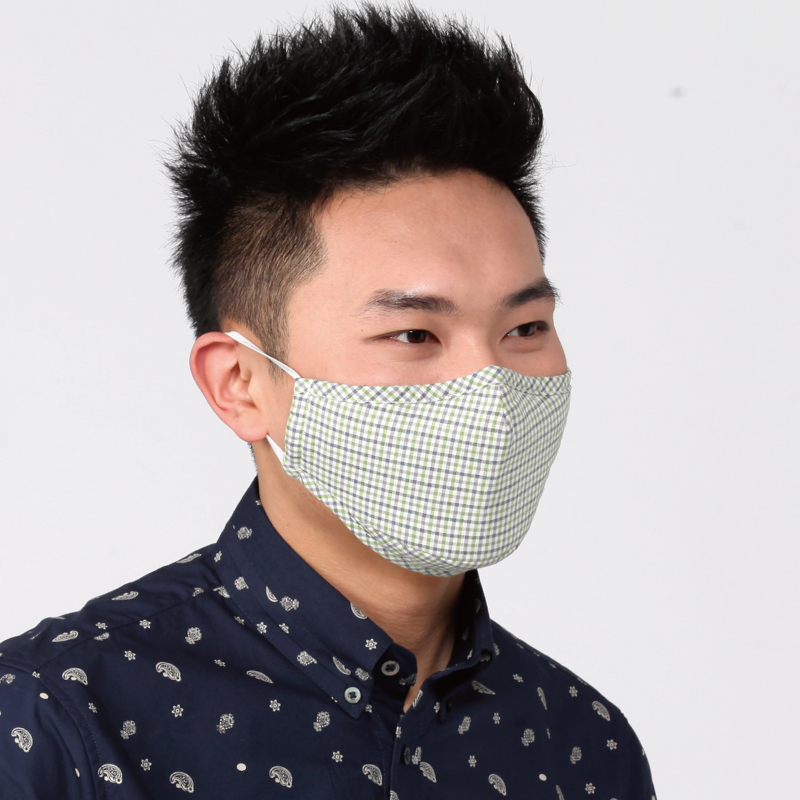face_mask: (277, 171, 563, 566)
